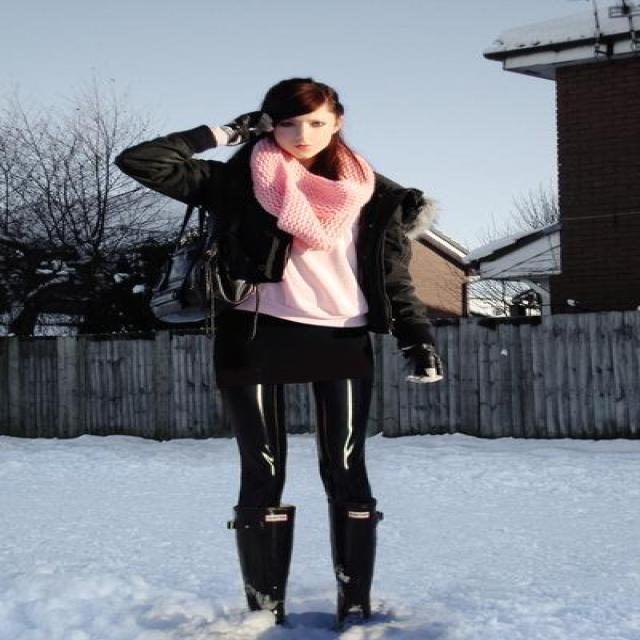jacket: (114, 125, 440, 370)
pants: (213, 306, 382, 517)
shirt: (235, 222, 395, 344)
shoe: (232, 504, 381, 626)
